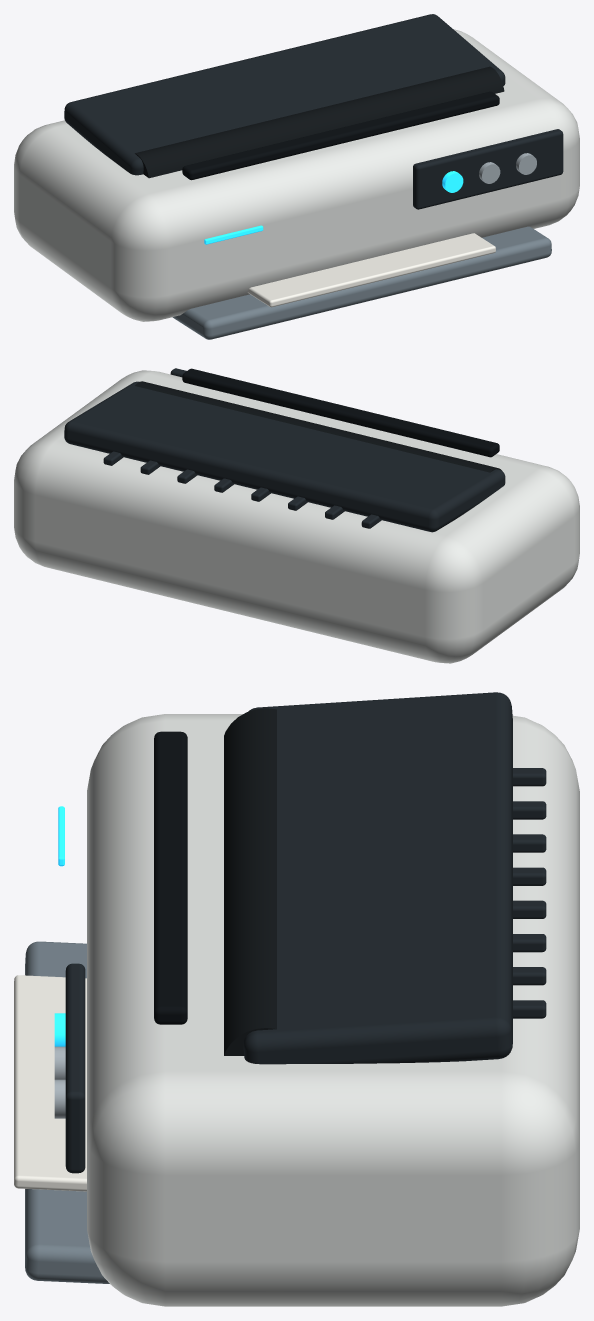
File: laminator.glb
The picture shows the model from 3 angles, top to bottom: view 1: azimuth 30°, elevation 25°; view 2: azimuth 150°, elevation 25°; view 3: azimuth 270°, elevation 25°; orthographic projection. The views are drawn at different scales.
Parts seen in each view (by area): view 1: Laminator enclosure, Input guide, Heated roller, Output tray, Control panel, Laminated document, Feed slot; view 2: Laminator enclosure, Input guide, Feed slot, Heated roller; view 3: Laminator enclosure, Input guide, Heated roller, Laminated document, Feed slot, Output tray, Control panel.
Part boxes in pixels (left/top/right/bottom): Laminator enclosure: left=14, top=29, right=579, bottom=321; Input guide: left=64, top=14, right=505, bottom=175; Heated roller: left=135, top=66, right=504, bottom=178; Output tray: left=172, top=226, right=551, bottom=339; Control panel: left=413, top=129, right=563, bottom=209; Laminated document: left=247, top=233, right=495, bottom=307; Feed slot: left=182, top=91, right=499, bottom=180; Laminator enclosure: left=14, top=370, right=579, bottom=663; Input guide: left=64, top=381, right=505, bottom=532; Feed slot: left=182, top=368, right=499, bottom=457; Heated roller: left=135, top=381, right=501, bottom=472; Laminator enclosure: left=87, top=714, right=579, bottom=1306; Input guide: left=243, top=692, right=512, bottom=1064; Heated roller: left=224, top=708, right=276, bottom=1055; Laminated document: left=14, top=975, right=86, bottom=1191; Feed slot: left=154, top=731, right=187, bottom=1024; Output tray: left=25, top=941, right=109, bottom=1283; Control panel: left=65, top=963, right=85, bottom=1173.
Size of the model in its own units: 1.76 by 0.5611 by 1.01.
